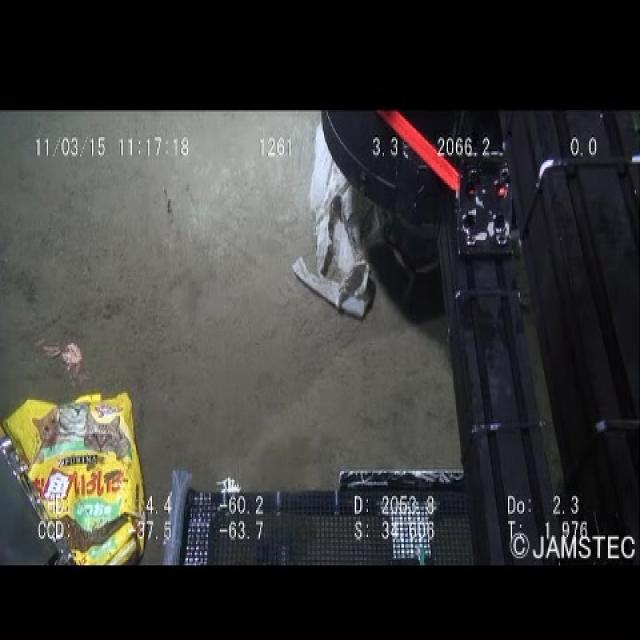plastic: (0, 388, 148, 564), (288, 117, 385, 322)
